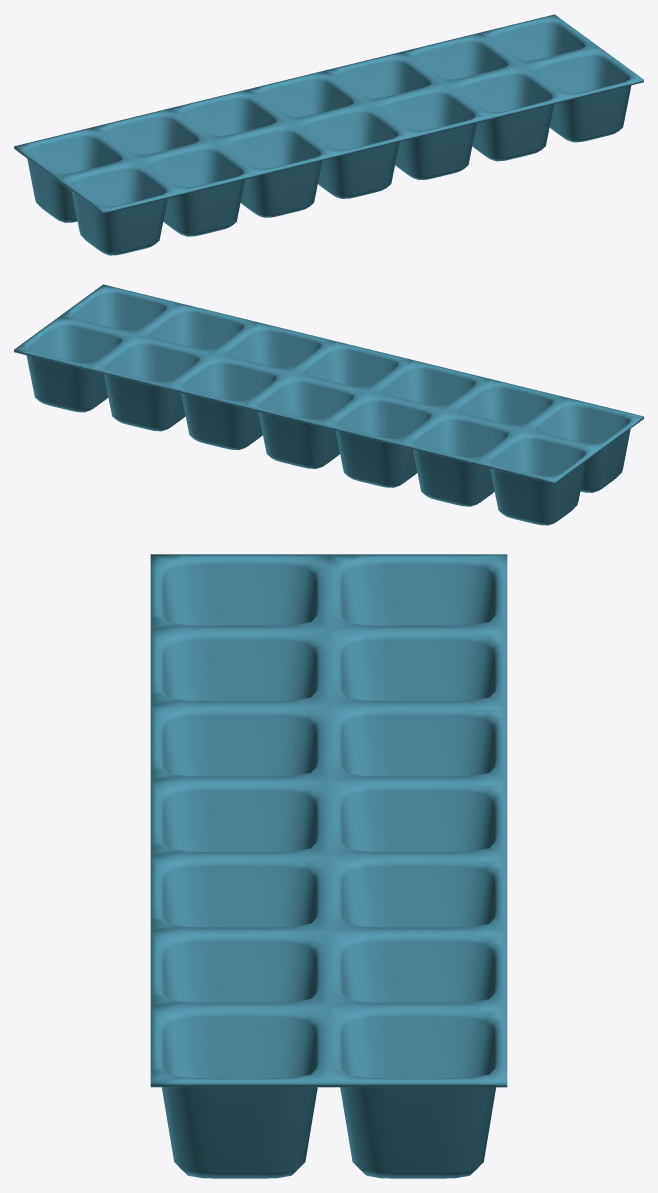
3 renders of one model, top to bottom at view 1: azimuth 30°, elevation 25°; view 2: azimuth 150°, elevation 25°; view 3: azimuth 270°, elevation 25°, orthographic. The views are drawn at different scales.
Visible parts, largest first — view 1: One piece fourteen open mould wells and shared deck; view 2: One piece fourteen open mould wells and shared deck; view 3: One piece fourteen open mould wells and shared deck.
Boxes of the visible parts, left/top/right/bottom form: One piece fourteen open mould wells and shared deck: left=14, top=14, right=643, bottom=255; One piece fourteen open mould wells and shared deck: left=14, top=284, right=643, bottom=525; One piece fourteen open mould wells and shared deck: left=150, top=554, right=507, bottom=1178.
Bounding box in the file's own units: 0.336 × 0.0325 × 0.096.
